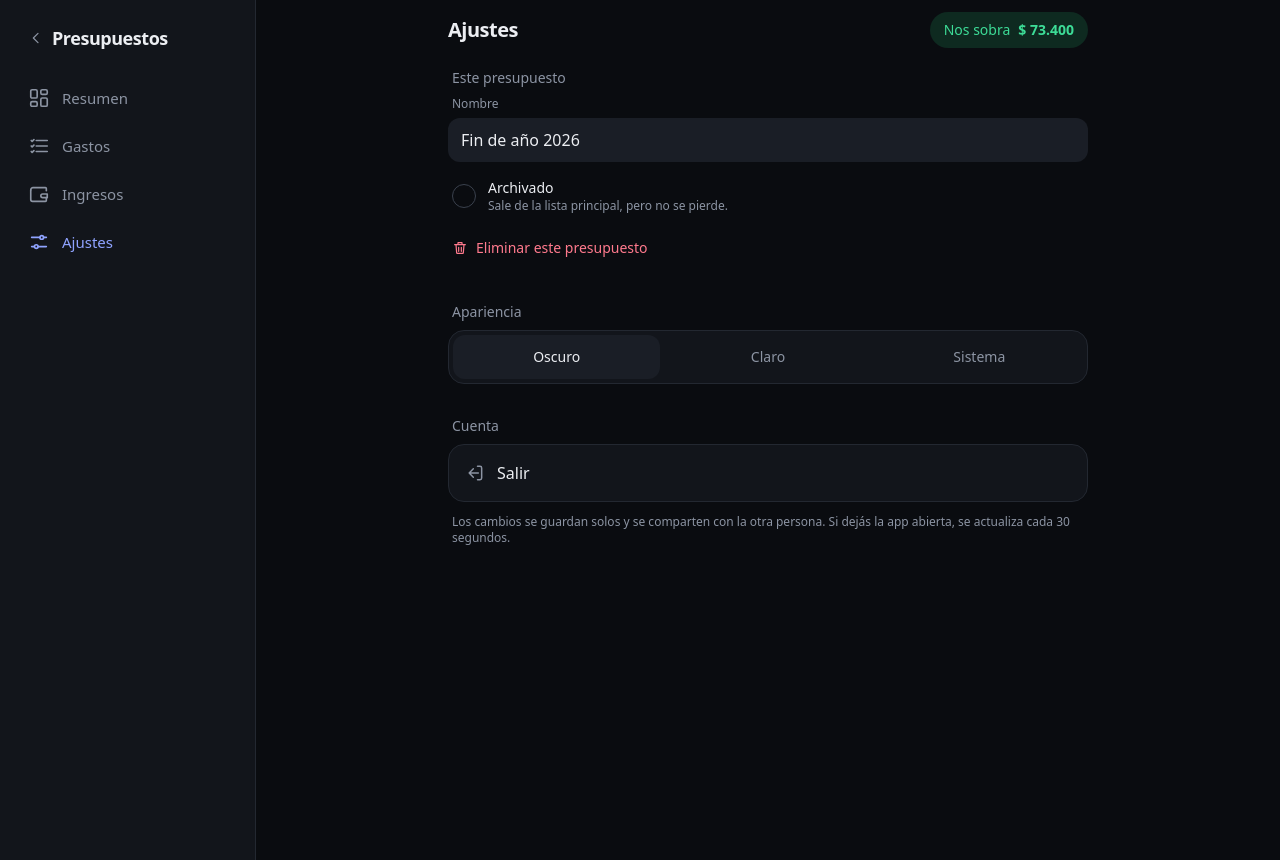
Scenario: ajustes de un presupuesto › renombrar actualiza el título y se guarda
The width and height of the screenshot is (1280, 860).
Expected: the heading "Ajustes" is shown, [448,16,518,43]
Replace the text in the field labelled "Nombre" with "Navidad 2027" at point(768, 140), box [448,118,1088,162]
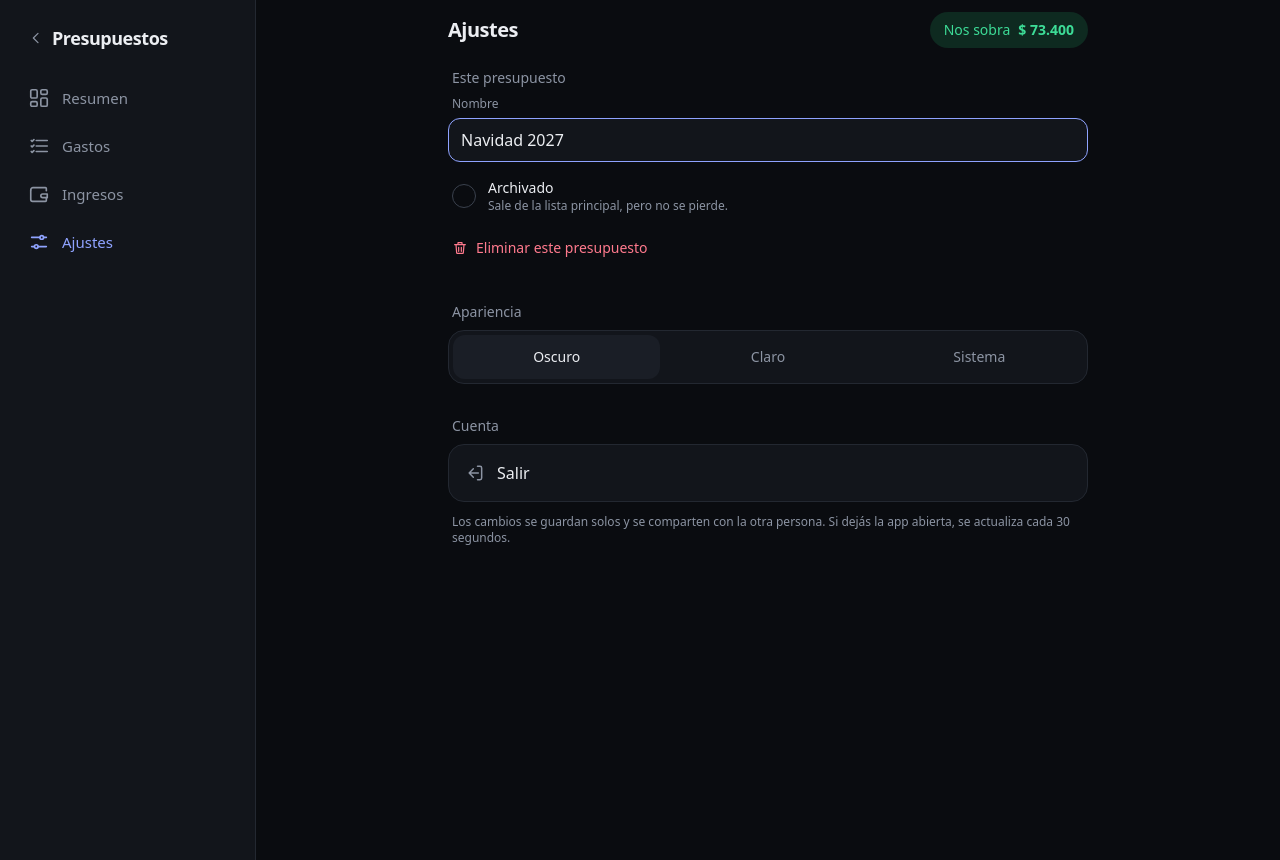
Click the button "Resumen" at point(128, 98), box [16,76,239,120]
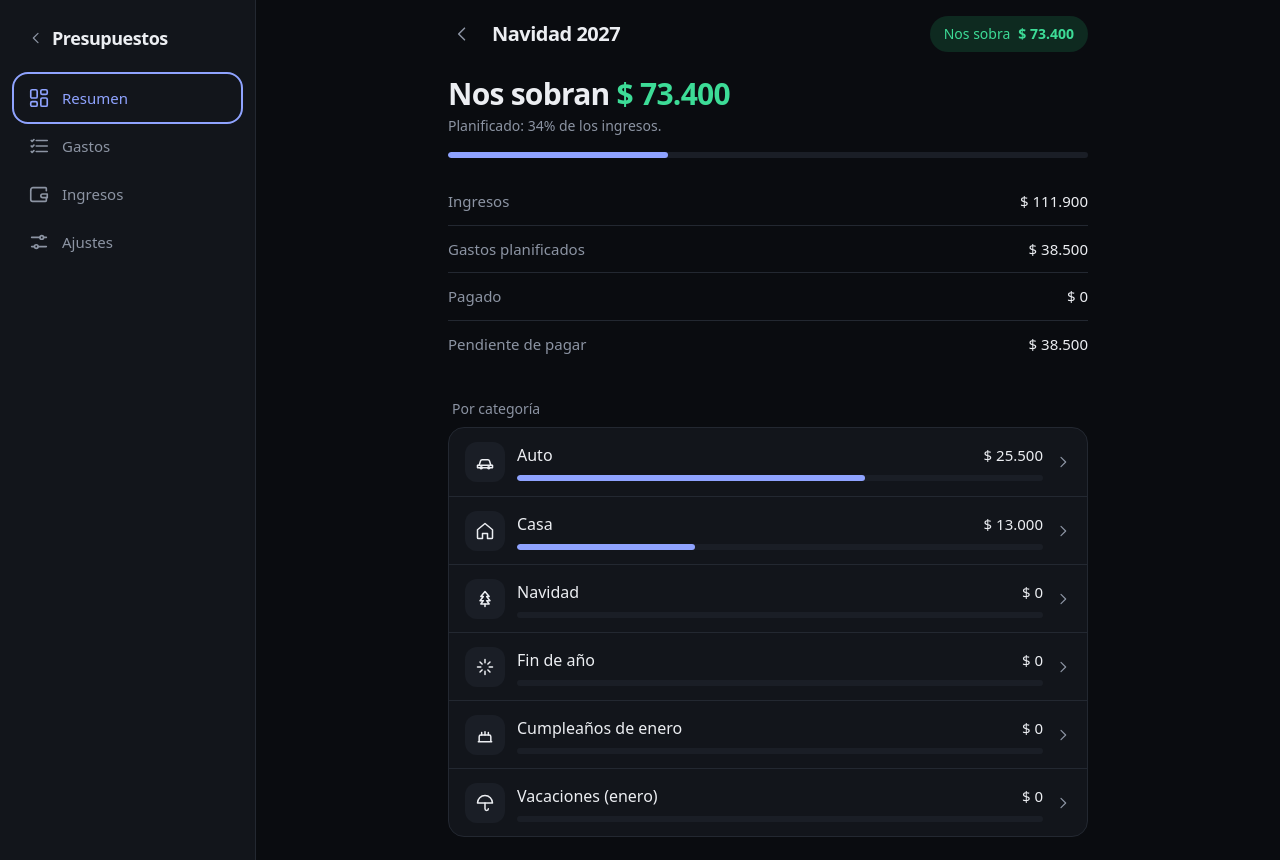
Expected: the heading "Navidad 2027" is shown, [492,20,620,47]
